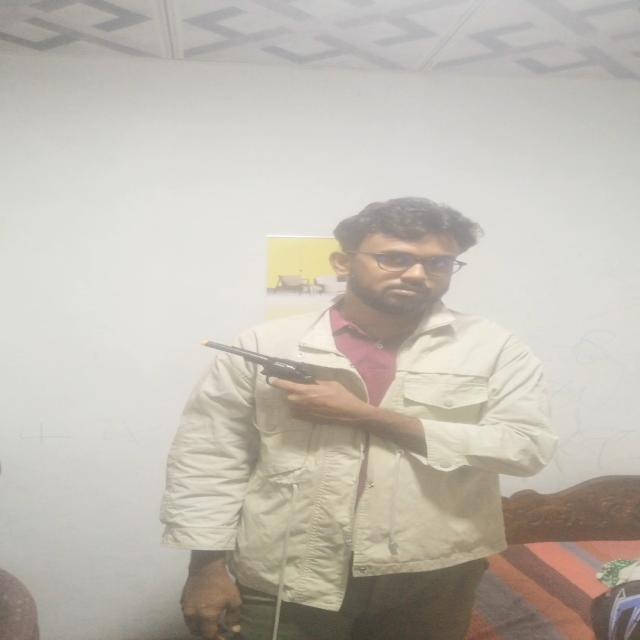Gun_Holder: (180, 332, 352, 410)
Jacket_Wearer: (148, 303, 619, 572)
Person: (148, 187, 560, 640)
